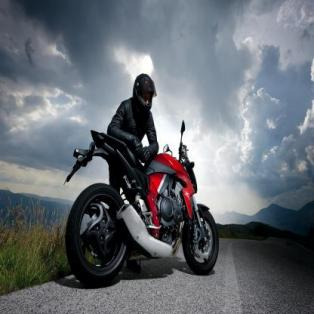Motocicleta: (64, 127, 218, 289)
